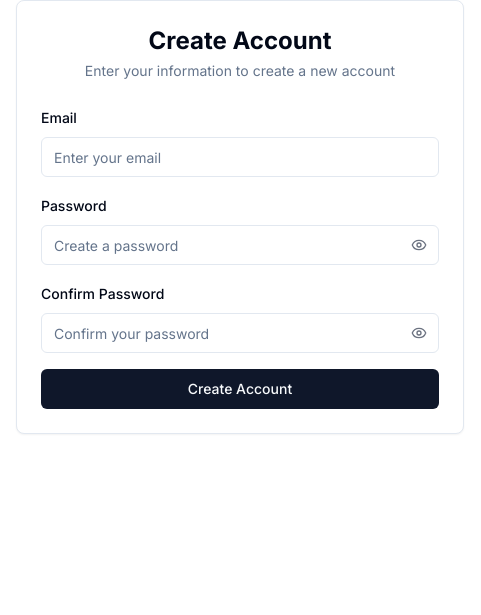
Test: RegisterForm › shows validation error for weak password
Type "test@example.com" into the field labelled "Email".
click(240, 157); type("test@example.com")  # box [41,137,439,177]
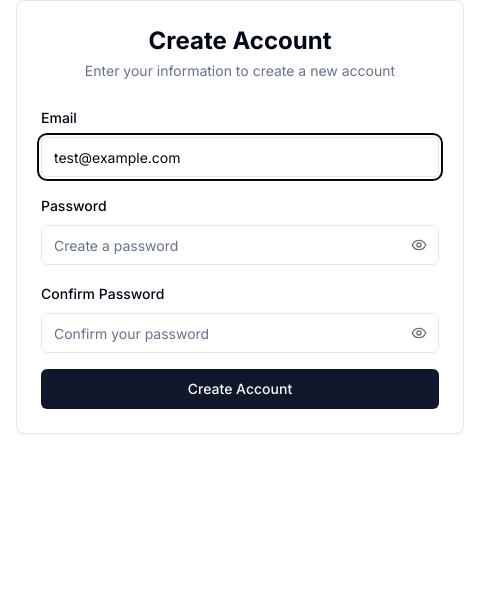
Type "weak" into the password field labelled "Password".
click(240, 245); type("weak")  # box [41,225,439,265]
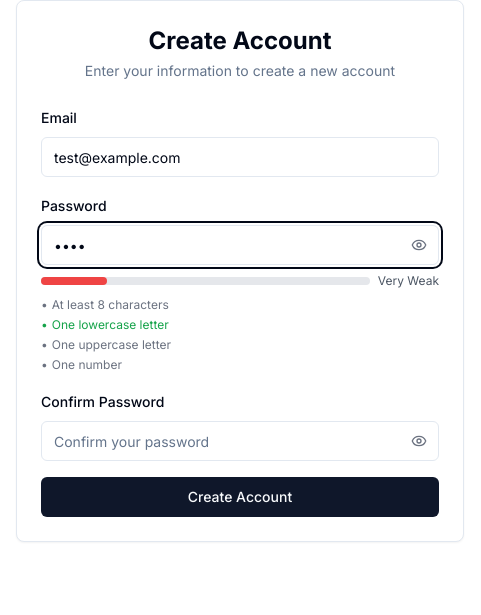
Click the button "Create Account".
click(240, 497)  # box [41,477,439,517]
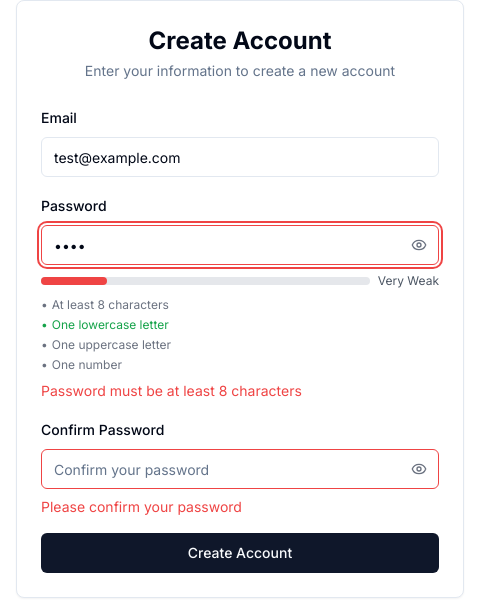
Expected: the text "Password must be at least 8 characters" is shown, [41,382,302,399]
